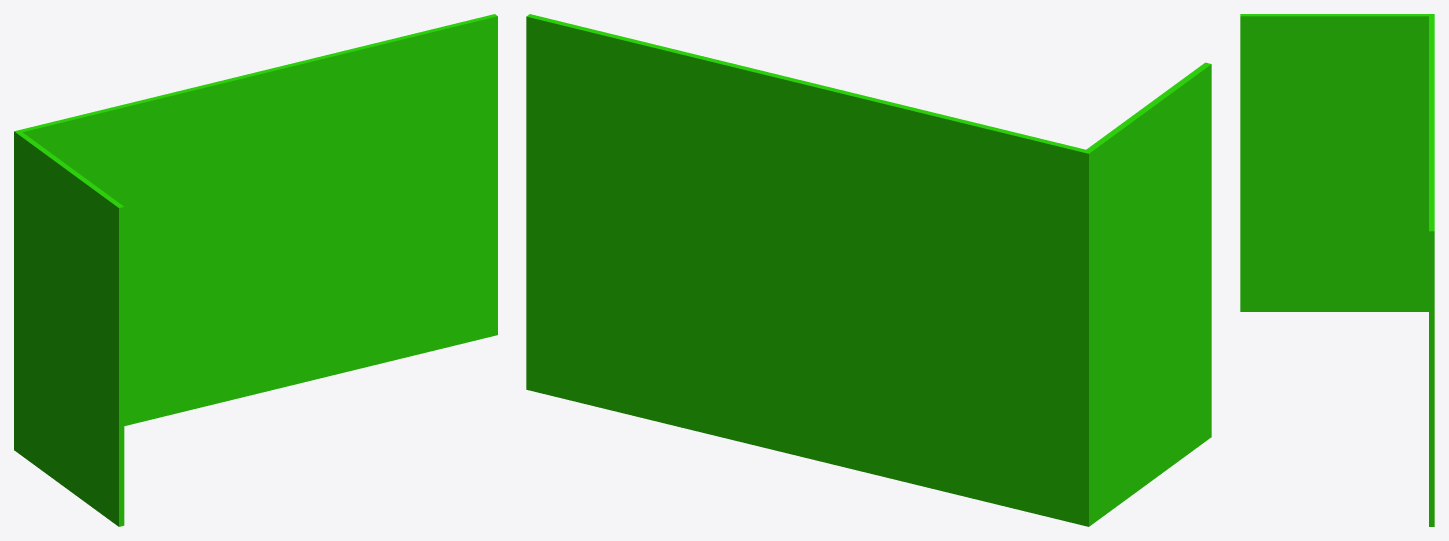
The model's file is W03_Wall_Int_14.fbx.
3 renders of one model, left to right at view 1: azimuth 30°, elevation 25°; view 2: azimuth 150°, elevation 25°; view 3: azimuth 270°, elevation 25°, orthographic. The views are drawn at different scales.
Visible parts, largest first — view 1: W03_Wall_Int_14; view 2: W03_Wall_Int_14; view 3: W03_Wall_Int_14.
Boxes of the visible parts, x1,y1,x2,y2 form: W03_Wall_Int_14: [14, 14, 497, 526]; W03_Wall_Int_14: [526, 14, 1211, 526]; W03_Wall_Int_14: [1240, 14, 1434, 526].
Bounding box in the file's own units: 901 × 571 × 340.
